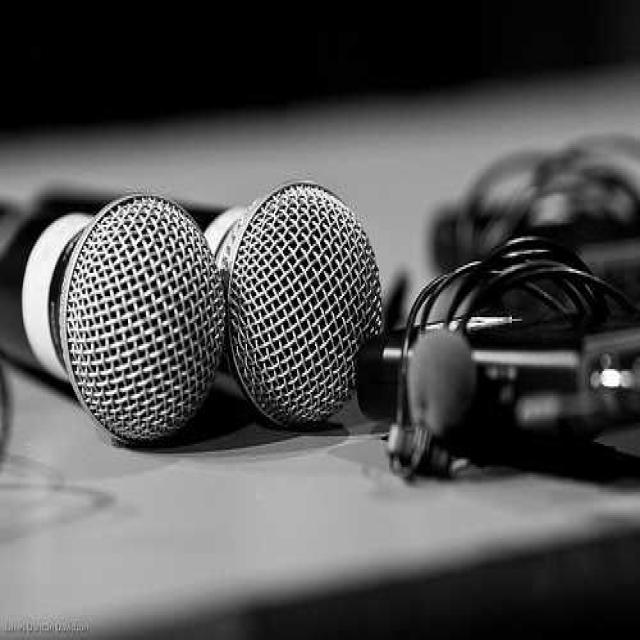microphone: (45, 190, 229, 450), (241, 181, 386, 424)
